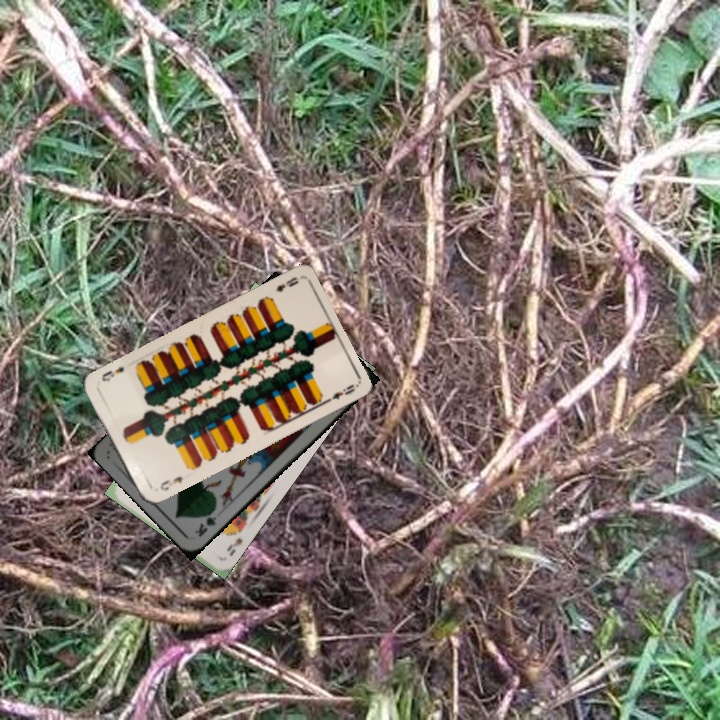E9: (272, 273, 301, 295), (156, 472, 185, 493)
GK: (191, 504, 219, 540)
S9: (223, 523, 246, 559)
